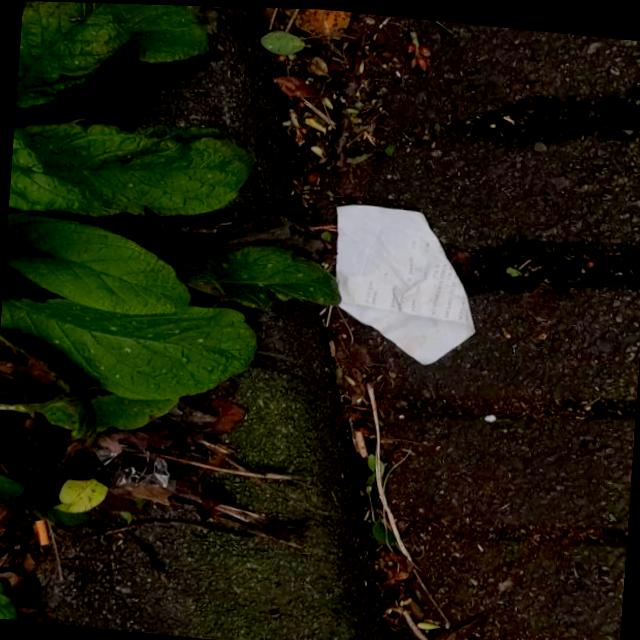Paper: (321, 197, 484, 368)
Plastic: (85, 435, 174, 493)
